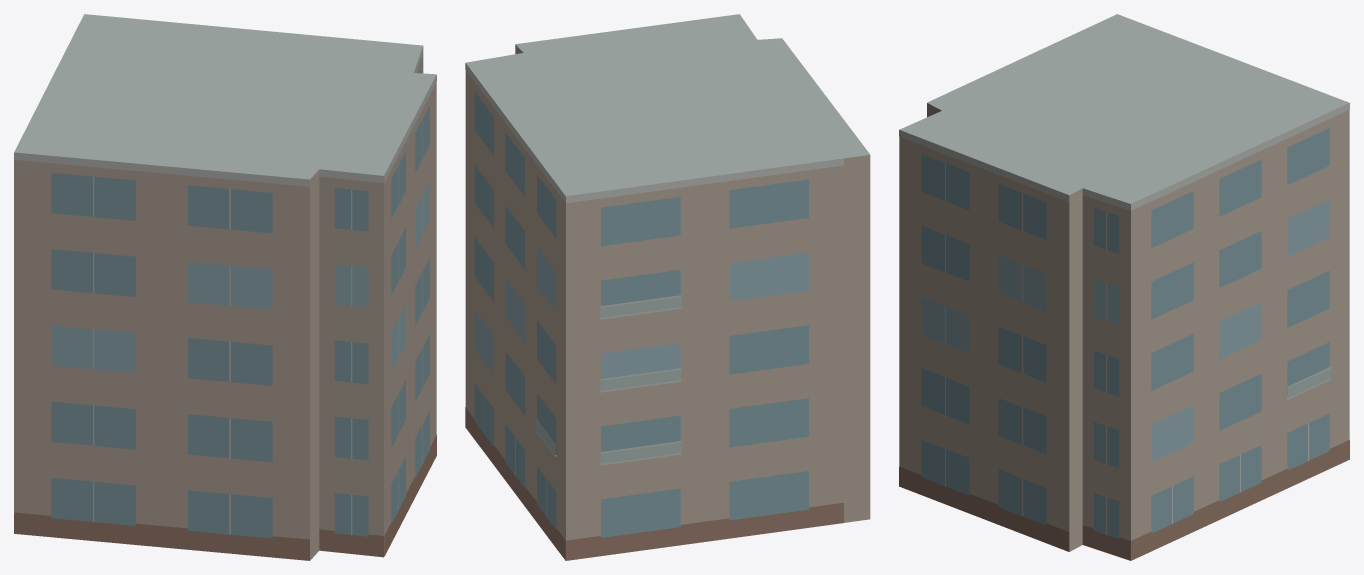
Rendered from survey-upis-32976214.glb.
3 views of the same model, side by side, from view 1: azimuth 30°, elevation 25°; view 2: azimuth 150°, elevation 25°; view 3: azimuth 270°, elevation 25° (orthographic). The views are drawn at different scales.
Parts seen in each view (by area): view 1: survey-upis-32976214.tmp; view 2: survey-upis-32976214.tmp; view 3: survey-upis-32976214.tmp.
Boxes of the visible parts, bbox=[...] form: survey-upis-32976214.tmp: bbox=[14, 14, 436, 560]; survey-upis-32976214.tmp: bbox=[465, 14, 870, 560]; survey-upis-32976214.tmp: bbox=[899, 14, 1349, 560].
Bounding box in the file's own units: 14.46 × 12.65 × 14.49.
